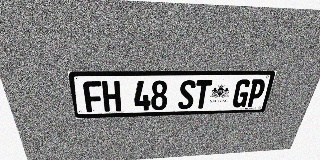4: (134, 80, 151, 111)
8: (151, 80, 168, 110)
F: (82, 81, 104, 112)
G: (231, 79, 252, 108)
H: (102, 81, 121, 112)
P: (245, 79, 267, 107)
S: (178, 80, 196, 109)
T: (193, 80, 212, 109)
